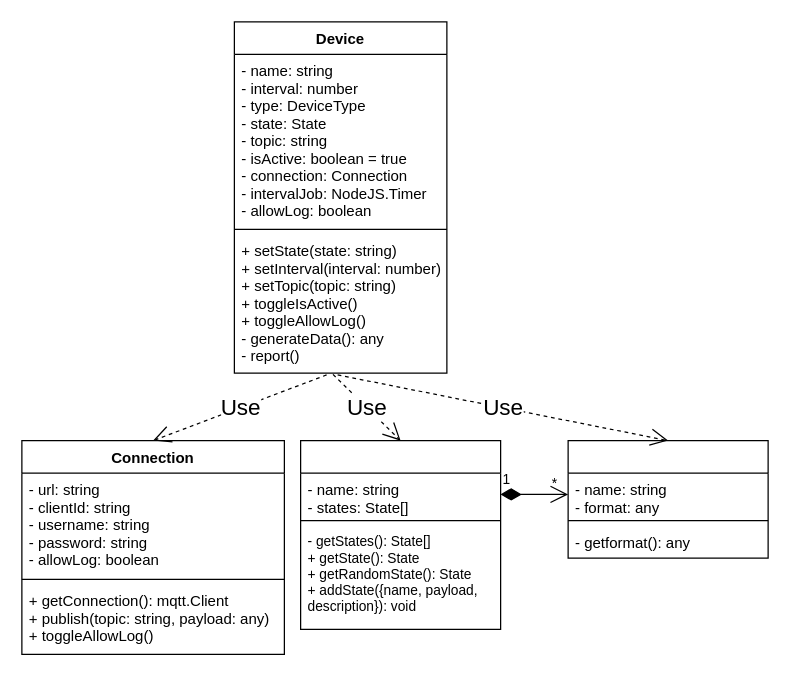
Image size: 790x680. Some labels were removed from this diagram. The shapes that lost their labels are listed below. From the top down, each one's box as (x1, y1, x2, y2) in pixels, then its label:
(567, 439, 768, 558): States
(299, 439, 501, 629): Device Type
